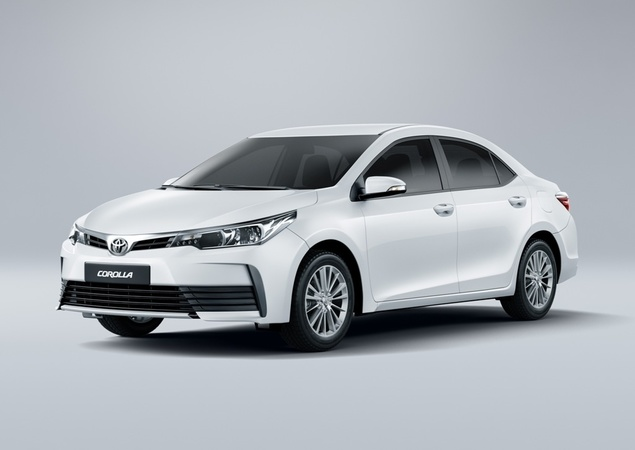Carro: (54, 121, 583, 353)
